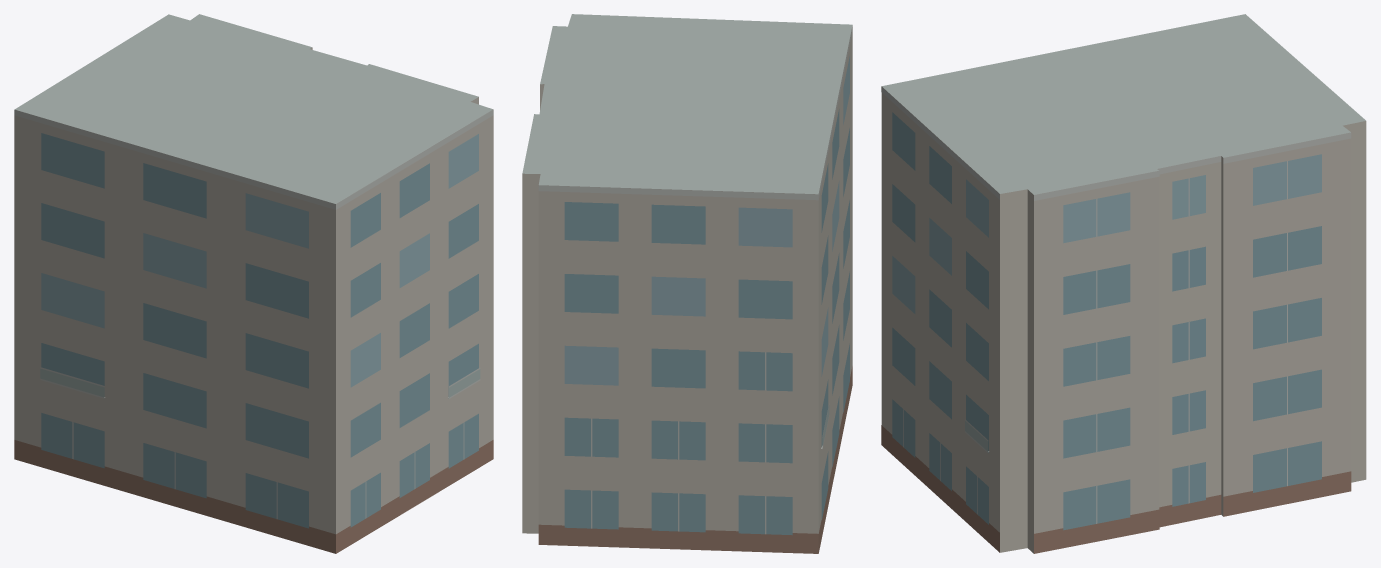
Rendered from survey-upis-33012849.glb.
3 renders of one model, left to right at view 1: azimuth 30°, elevation 25°; view 2: azimuth 150°, elevation 25°; view 3: azimuth 270°, elevation 25°, orthographic. The views are drawn at different scales.
Visible parts, largest first — view 1: survey-upis-33012849.tmp; view 2: survey-upis-33012849.tmp; view 3: survey-upis-33012849.tmp.
Part boxes in pixels (x1,y1,x2,y2): survey-upis-33012849.tmp: [14, 14, 493, 553]; survey-upis-33012849.tmp: [522, 14, 852, 553]; survey-upis-33012849.tmp: [881, 14, 1366, 553].
Bounding box in the file's own units: 15.81 × 14.6 × 17.89.
